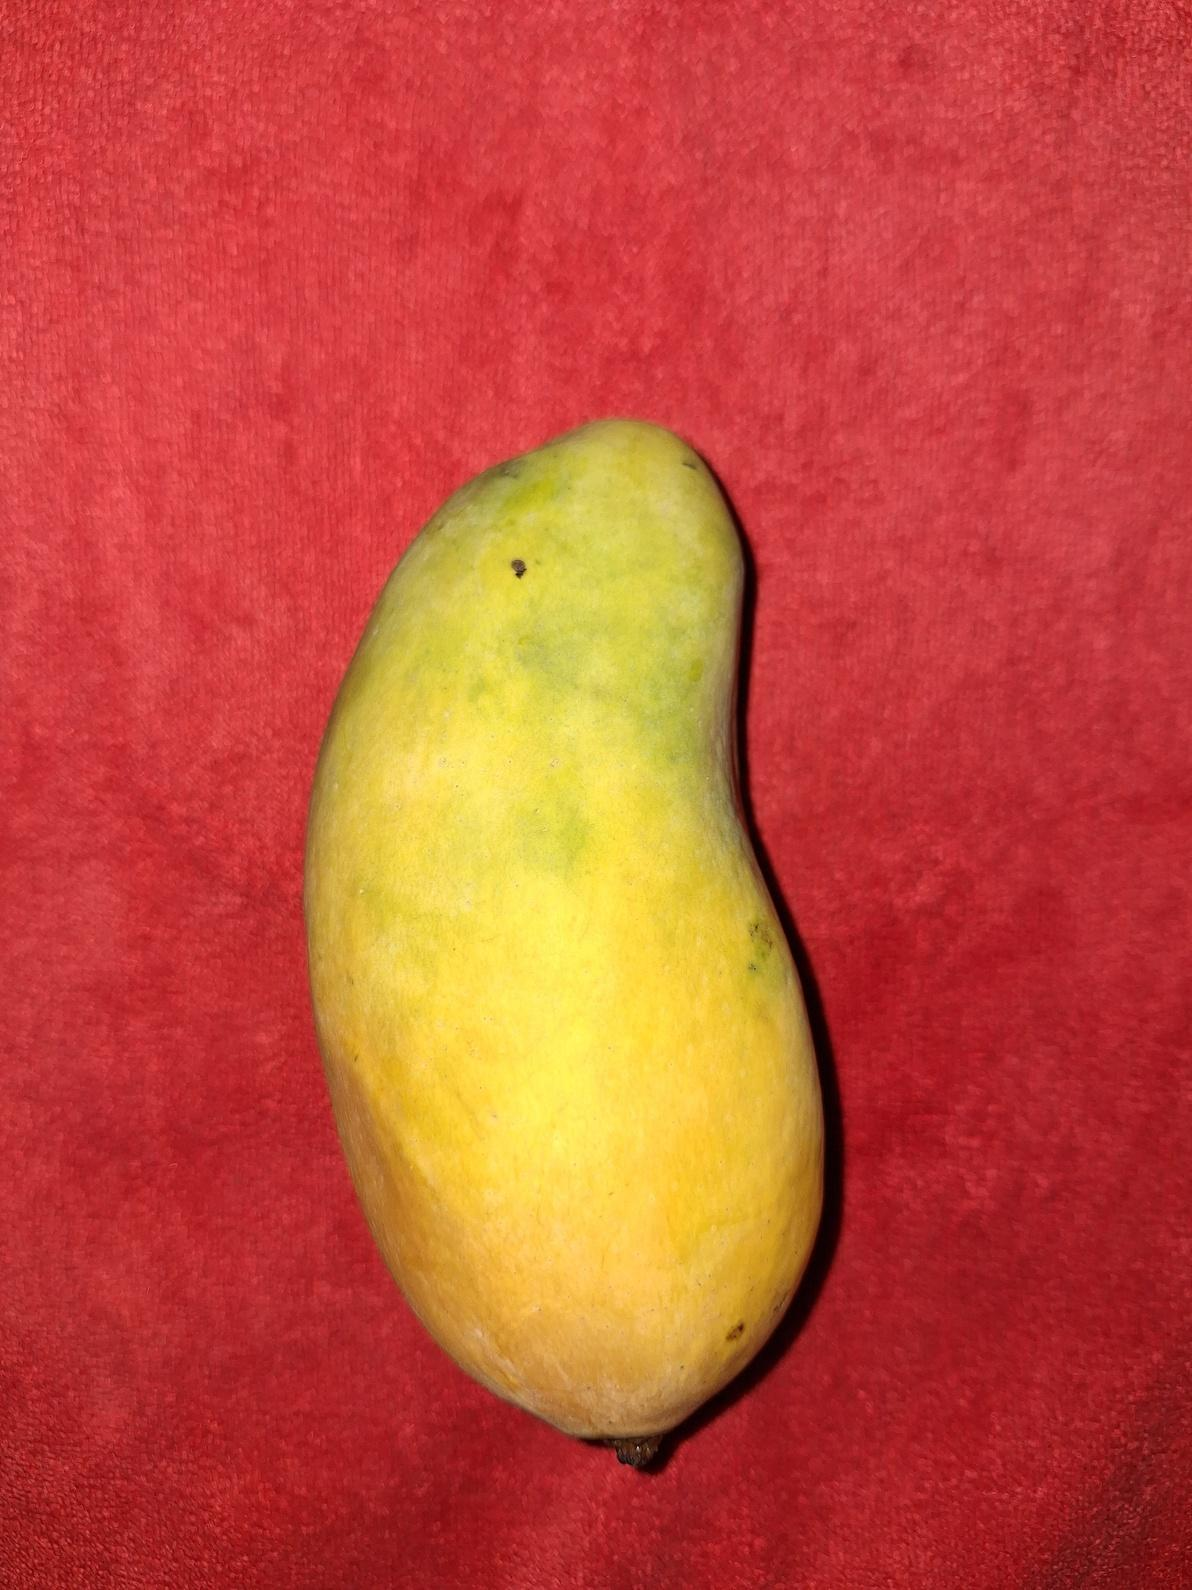mango: (301, 414, 826, 1469)
